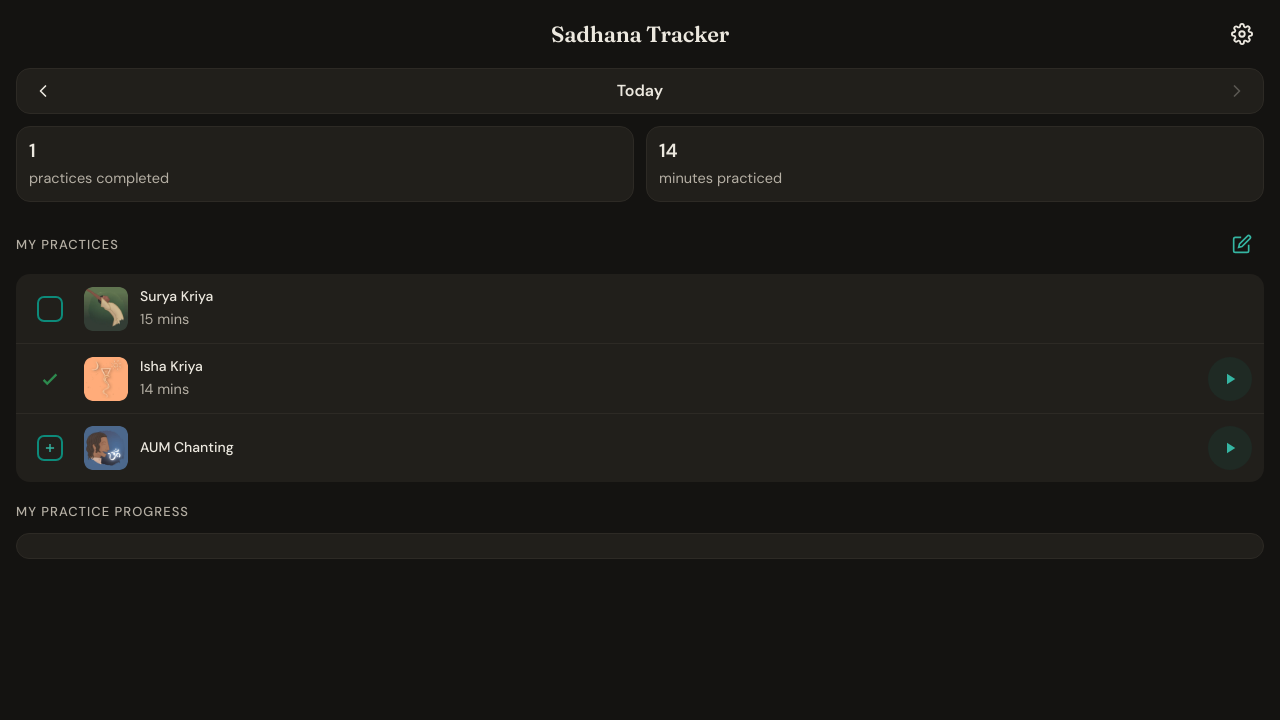
Test: Practice home day switcher › switches the stat cards and ticks to yesterday, and back
Click the button named "Show yesterday": (43, 91) x1=21 y1=69 x2=65 y2=113
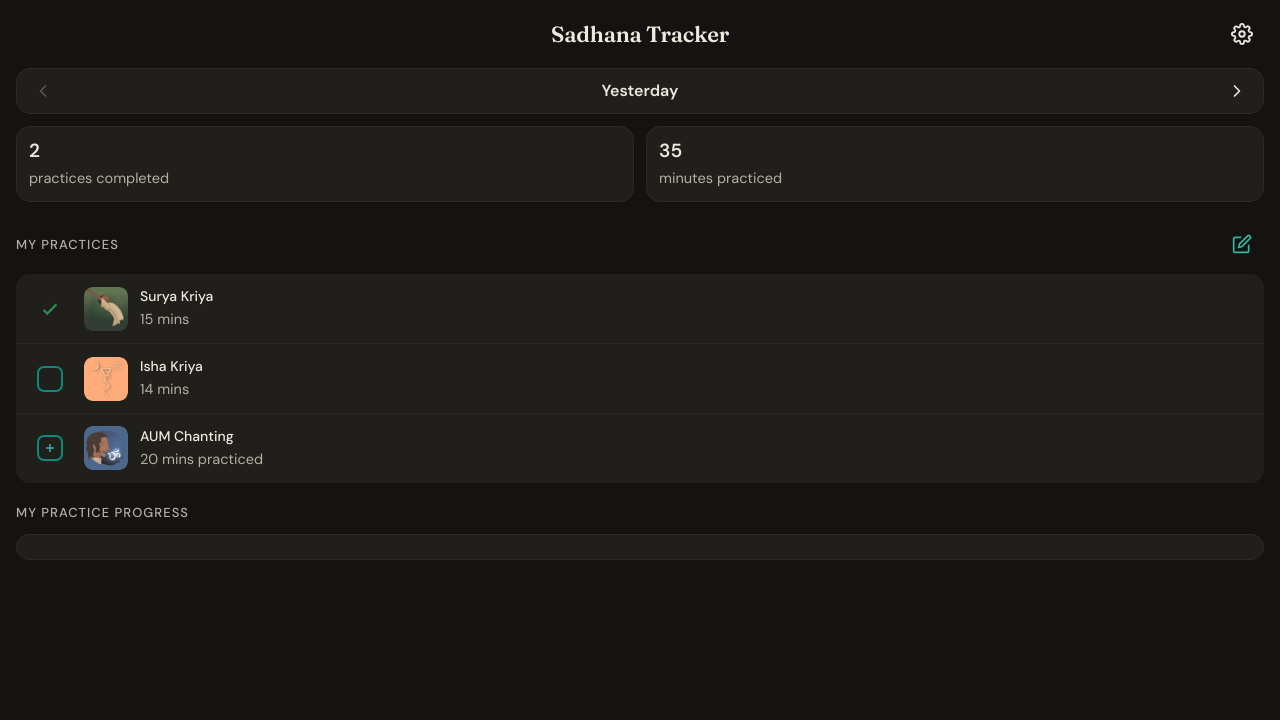
Expected: the element named "Completed" is shown, x1=39 y1=298 x2=61 y2=320
Expected: the text "Yesterday" is shown, x1=602 y1=80 x2=678 y2=101
Expected: the text "20 mins practiced" is shown, x1=140 y1=450 x2=263 y2=468
Click the button named "Show today": (1237, 91) x1=1215 y1=69 x2=1259 y2=113
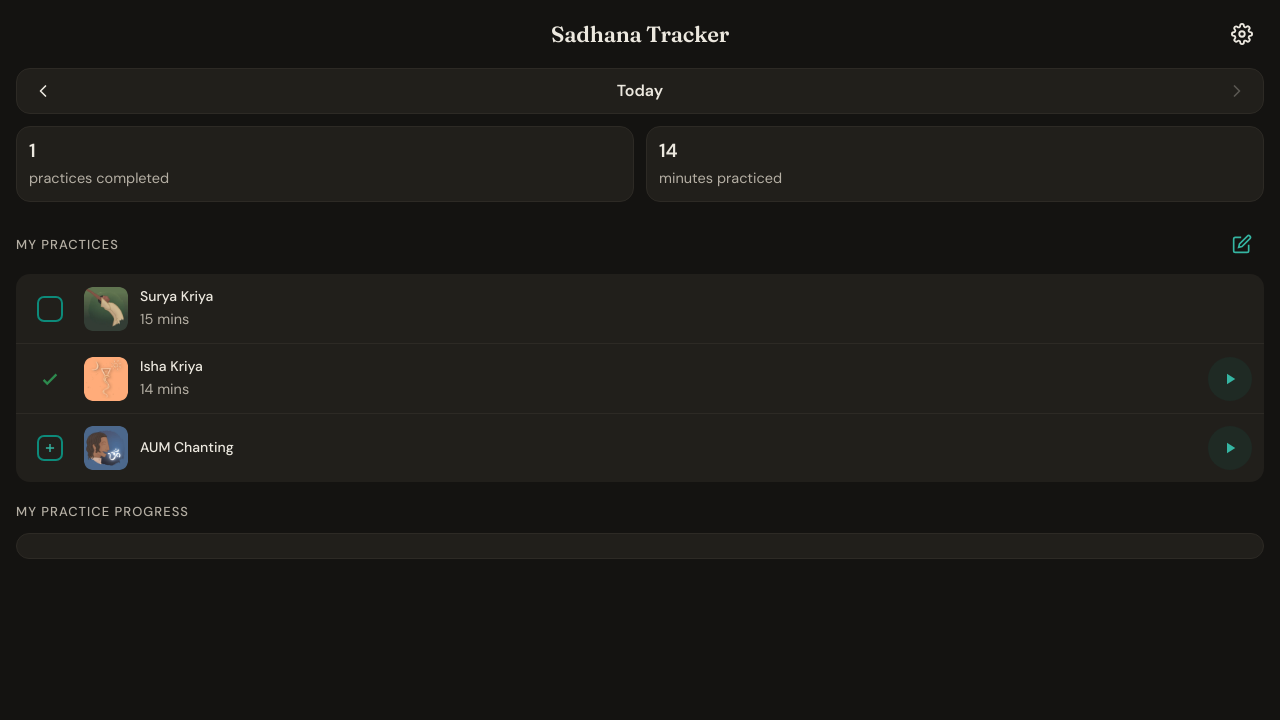
Expected: the button named "Mark complete" is shown, x1=28 y1=287 x2=72 y2=331
Expected: the text "Today" is shown, x1=617 y1=80 x2=663 y2=101
